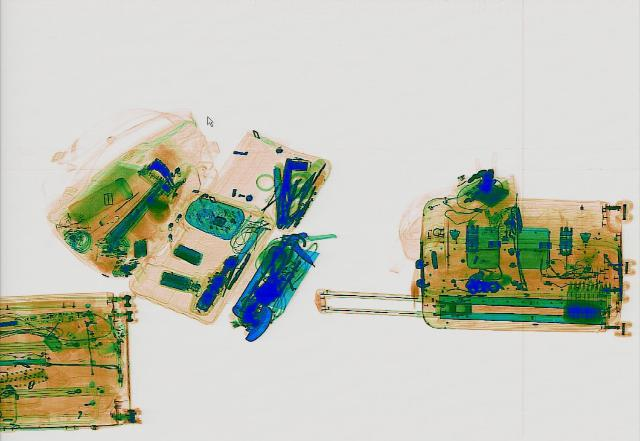Pliers: (260, 236, 300, 282)
